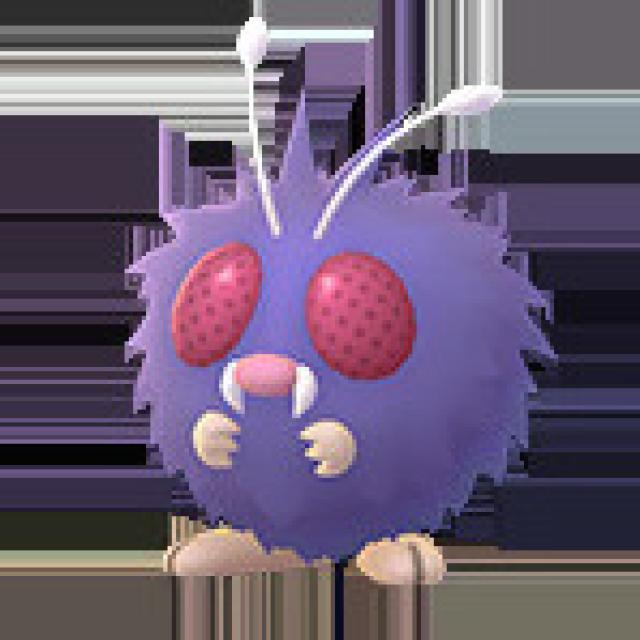Venonat: (119, 106, 542, 594)
